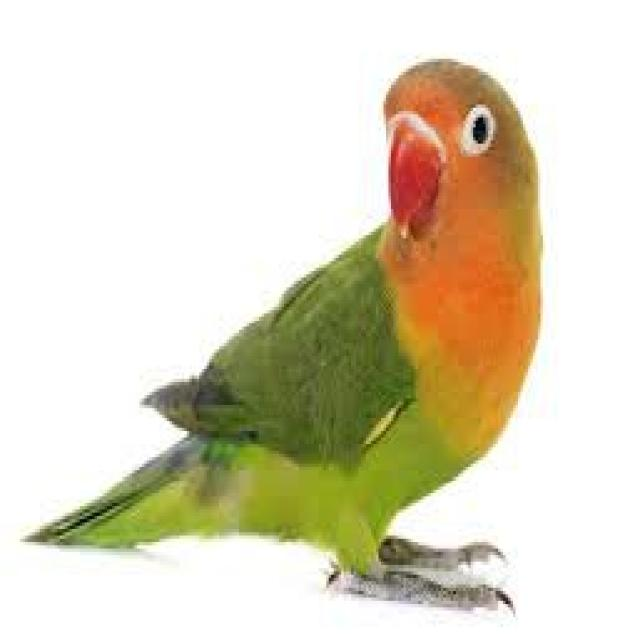Parrot: (60, 49, 549, 640)
